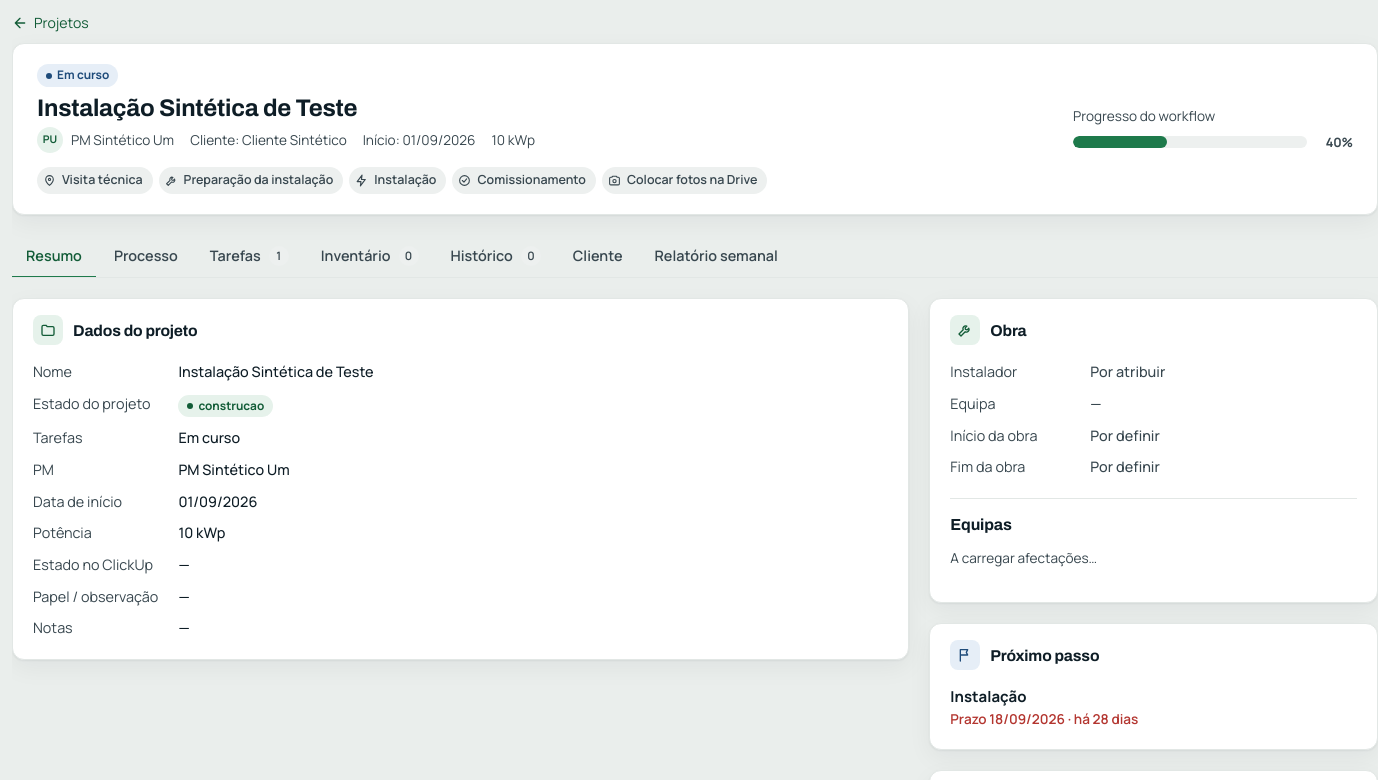
Test case: Detalhe do projeto — material no local › mostra o material no local, incluindo excedentes sem necessidade associada
This screenshot has width=1378, height=780.
Expected: the heading "Instalação Sintética de Teste" is shown, x1=37 y1=95 x2=357 y2=121
Click the tab "Inventário 0" at (370, 257), box x1=307 y1=235 x2=433 y2=278
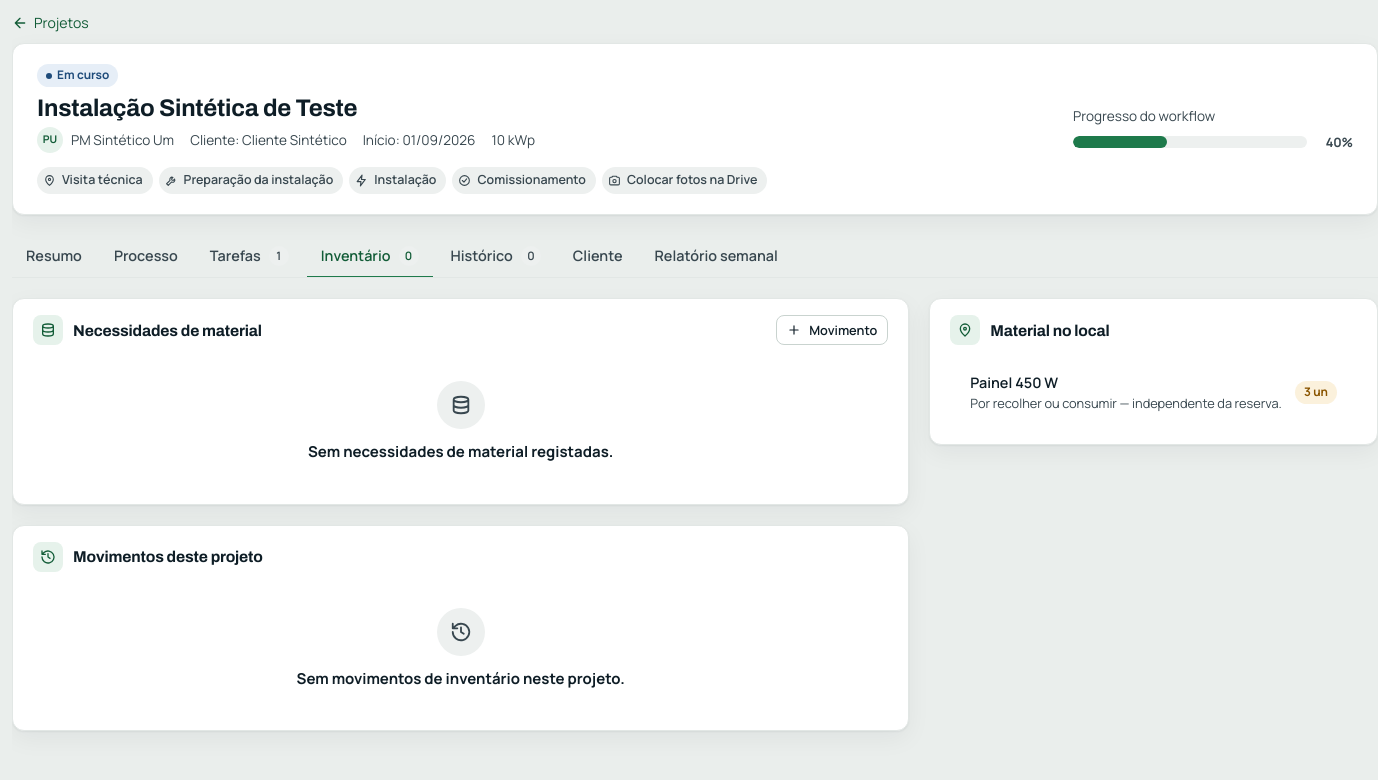
Expected: the heading "Material no local" is shown, x1=950 y1=315 x2=1110 y2=345
Expected: the text "3 un" is shown, x1=1295 y1=381 x2=1337 y2=404
Expected: the text "Por recolher ou consumir — independente da reserva." is shown, x1=970 y1=394 x2=1283 y2=413
